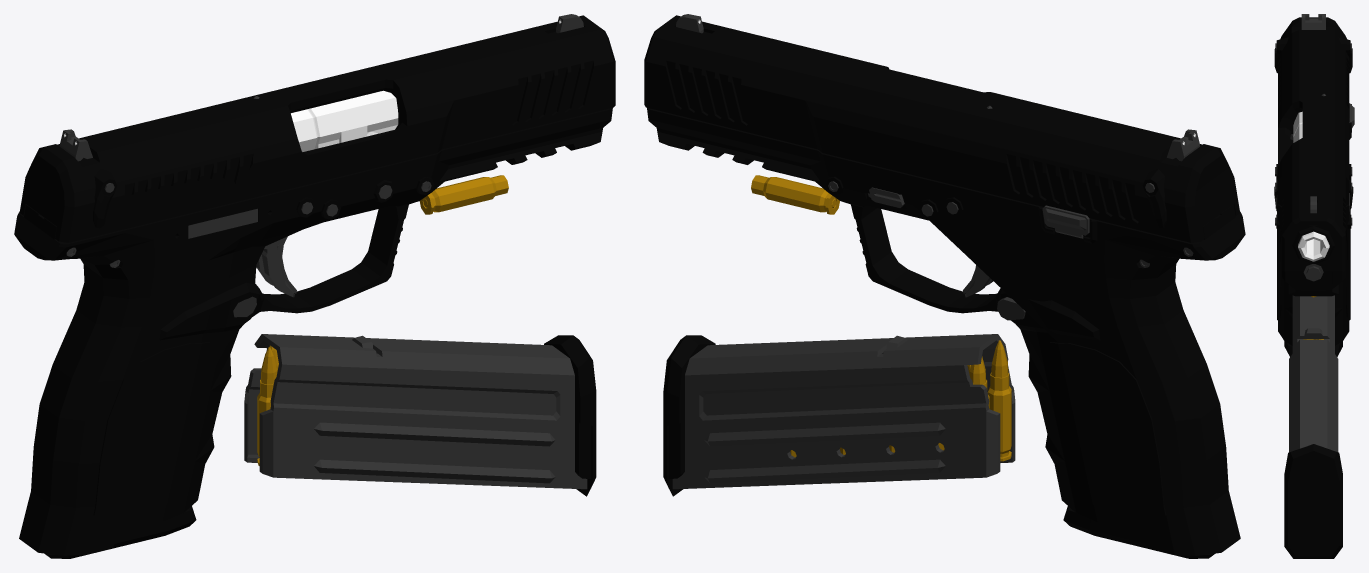
Rendered from fort28.fbx.
3 views of the same model, side by side, from view 1: azimuth 30°, elevation 25°; view 2: azimuth 150°, elevation 25°; view 3: azimuth 270°, elevation 25° (orthographic). The views are drawn at different scales.
Parts seen in each view (by area): view 1: fort-28, fort28 slide&bolt, 5728 fort28 mag 20rnd, fort28 barrel, 5728, 5728 fort28 mag empty 20rnd, fort28 trigga; view 2: fort-28, fort28 slide&bolt, 5728 fort28 mag 20rnd, 5728, 5728 fort28 mag empty 20rnd; view 3: fort28 slide&bolt, 5728 fort28 mag 20rnd, fort-28, fort28 barrel, 5728 fort28 mag empty 20rnd.
Part boxes in pixels (x1,y1,x2,y2): fort-28: (14,107,612,555); fort28 slide&bolt: (19,14,615,242); 5728 fort28 mag 20rnd: (244,334,596,496); fort28 barrel: (291,90,398,151); 5728: (419,175,508,214); 5728 fort28 mag empty 20rnd: (45,506,196,558); fort28 trigga: (256,202,313,297); fort-28: (647,108,1245,555); fort28 slide&bolt: (644,14,1239,242); 5728 fort28 mag 20rnd: (663,334,1015,496); 5728: (751,175,839,214); 5728 fort28 mag empty 20rnd: (1063,506,1214,558); fort28 slide&bolt: (1274,14,1352,290); 5728 fort28 mag 20rnd: (1284,295,1342,558); fort-28: (1274,103,1354,345); fort28 barrel: (1293,111,1329,261); 5728 fort28 mag empty 20rnd: (1284,134,1342,356).
Bounding box in the file's own units: 211 × 166 × 33.73.
